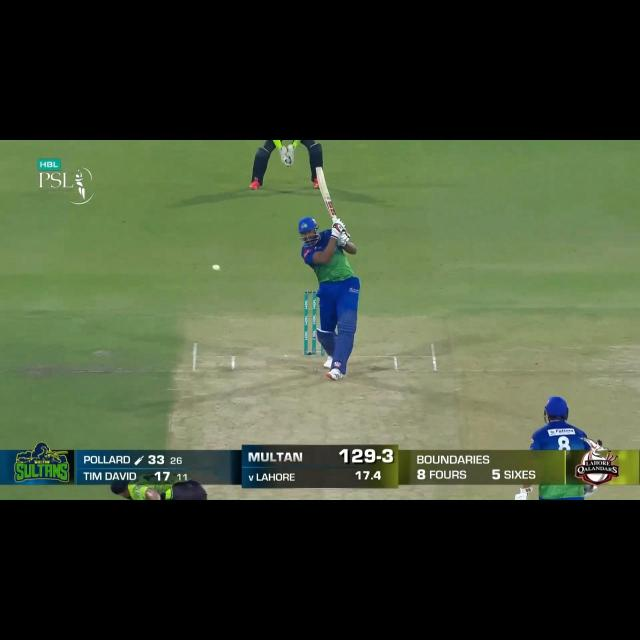bat: (314, 163, 337, 218)
toe: (315, 165, 326, 180)
